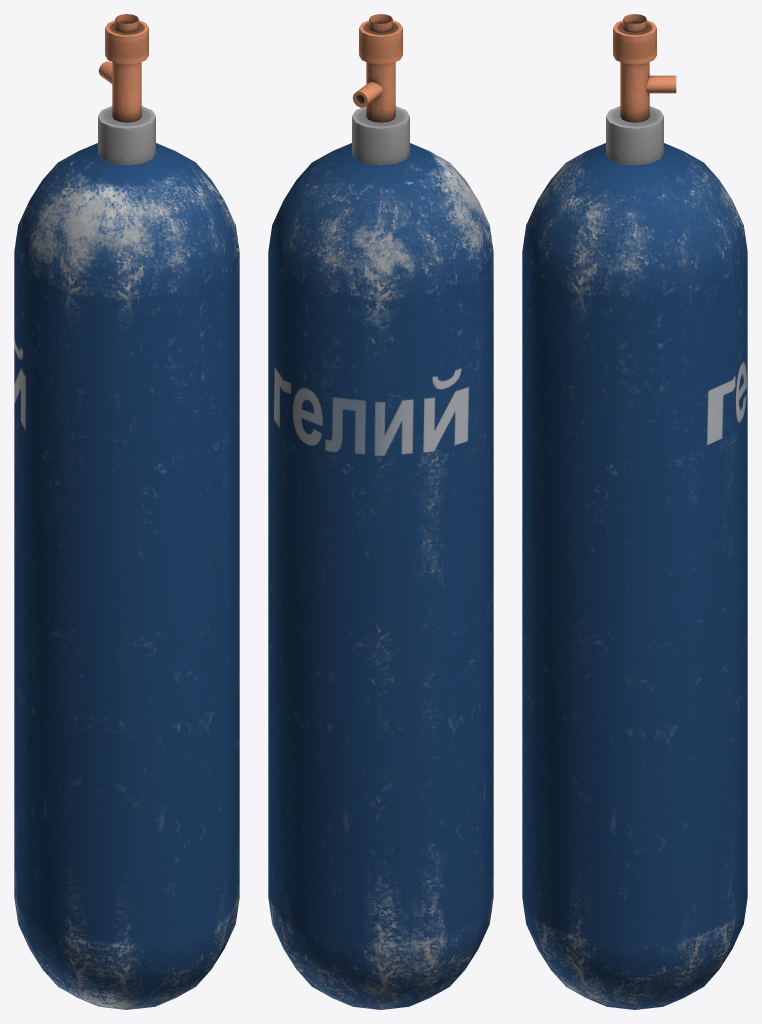
Rendered from gas_bottle.obj.
3 views of the same model, side by side, from view 1: azimuth 30°, elevation 25°; view 2: azimuth 150°, elevation 25°; view 3: azimuth 270°, elevation 25° (orthographic).
Parts seen in each view (by area): view 1: Capsule001; view 2: Capsule001; view 3: Capsule001.
Boxes of the visible parts, box(x1,y1,x2,y2) form: Capsule001: box(14, 14, 239, 1009); Capsule001: box(268, 14, 493, 1009); Capsule001: box(522, 14, 747, 1009).
Size of the model in its own units: 17.79 by 85.47 by 17.79.
1 material, 1 textured.
